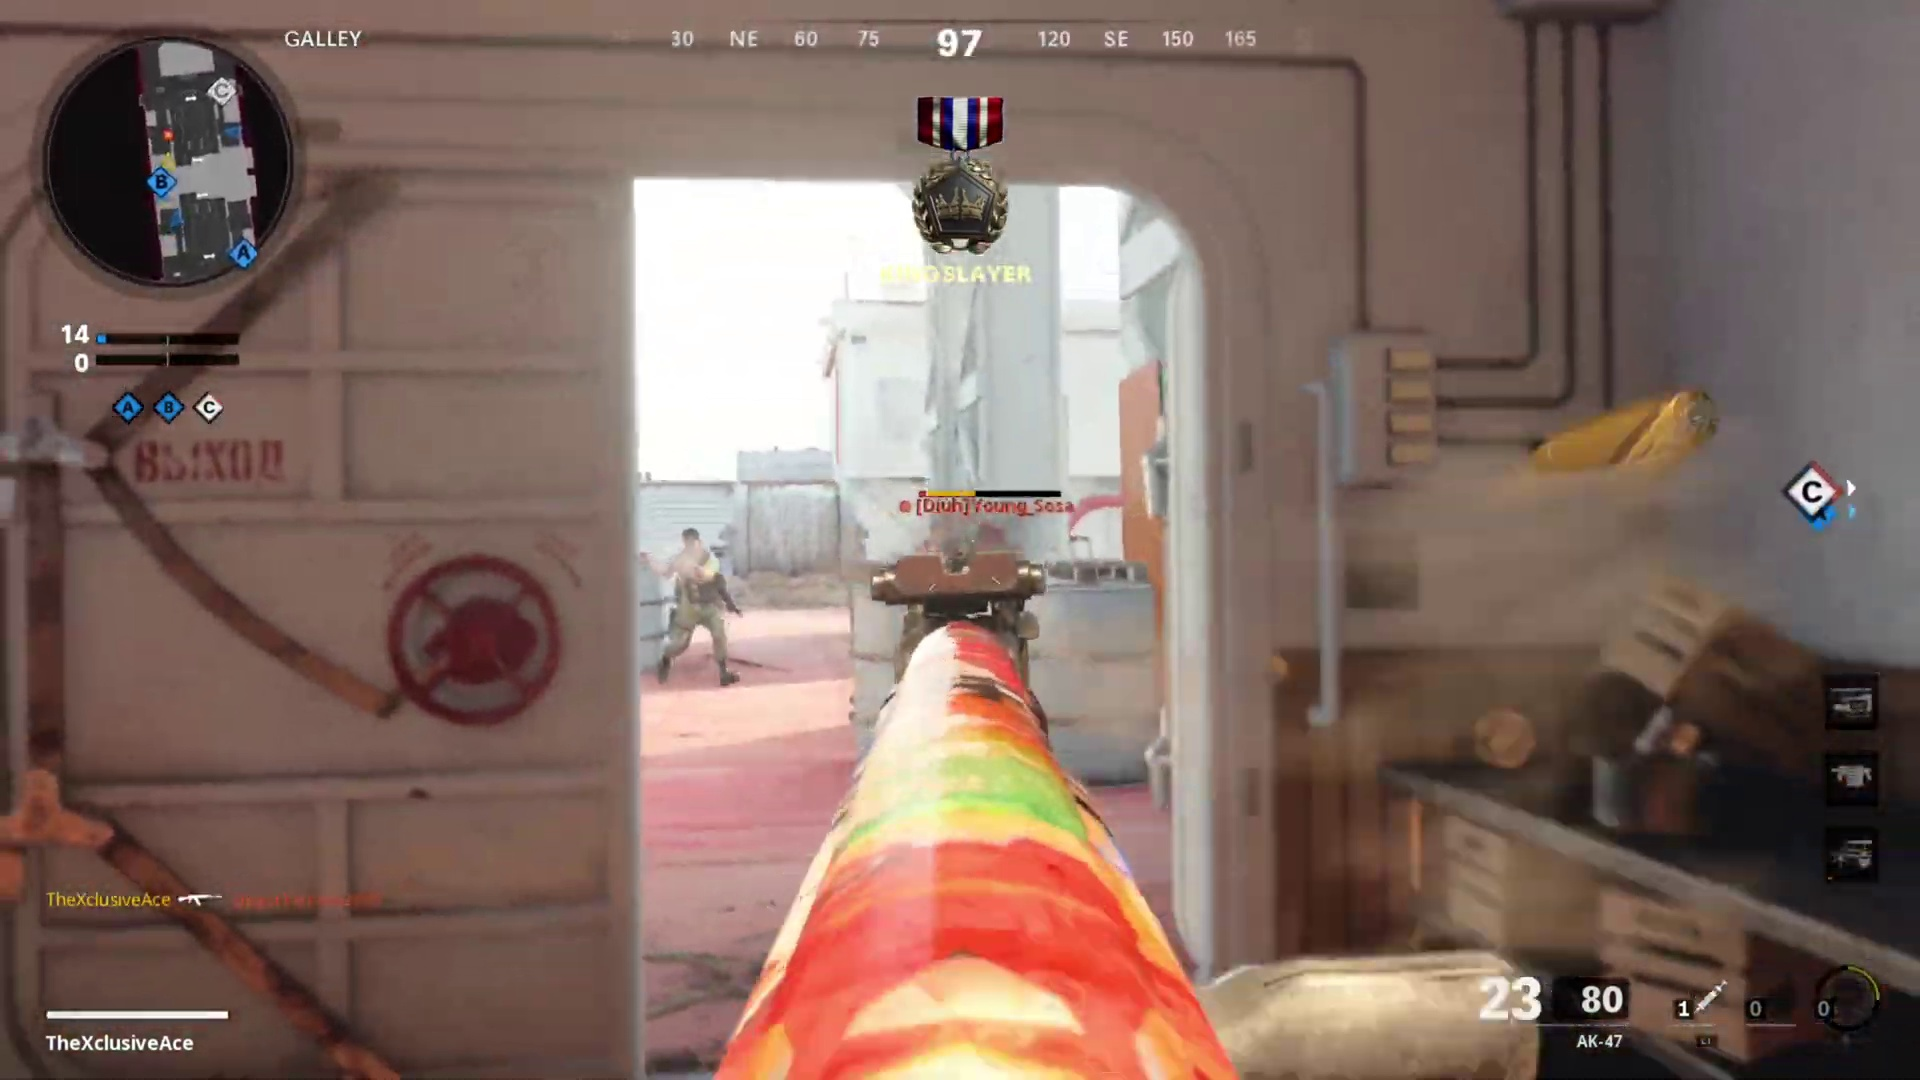head: (678, 524, 706, 566)
person: (653, 525, 738, 683)
